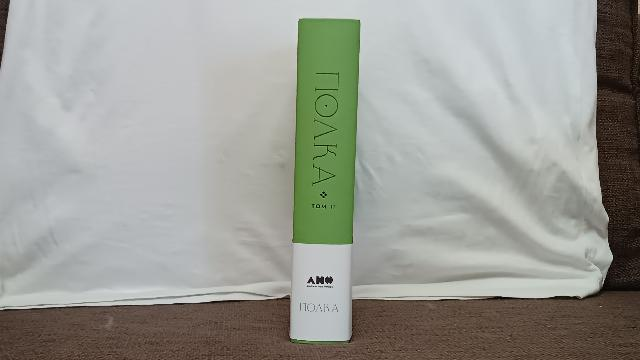book-s-spine: (291, 19, 361, 344)
